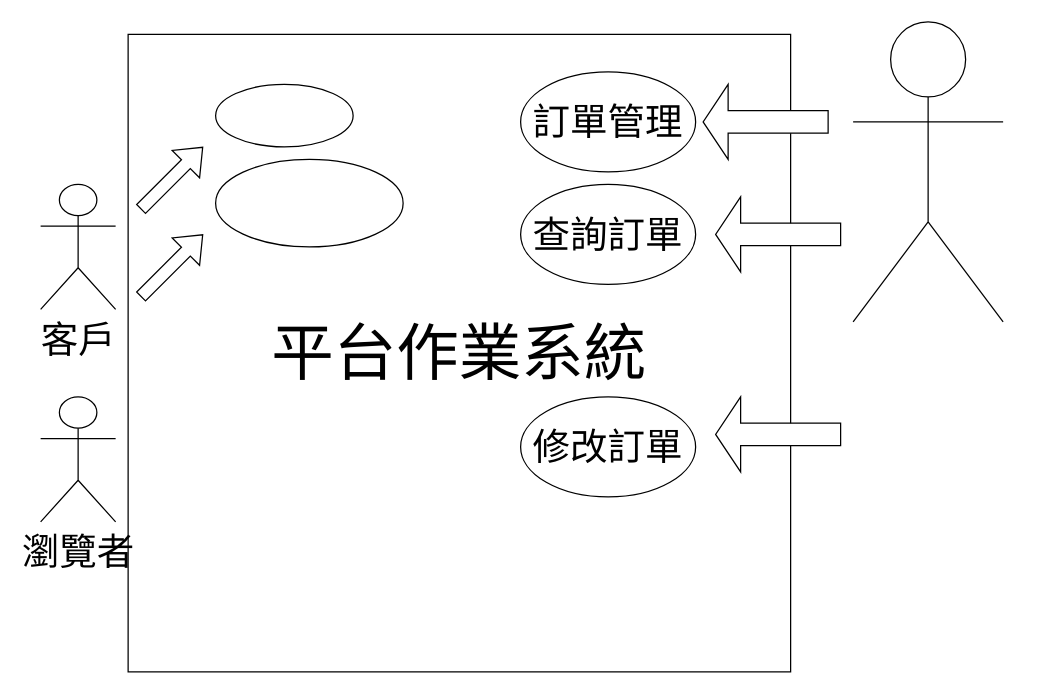
This 1049x694 diagram has some shape labels left out. Here are the shapes that lost their labels. From the top down, the box of each, then its label:
(214, 83, 353, 147): 註冊
(852, 21, 1003, 322): 管理人員
(214, 158, 403, 247): 觀看產品
